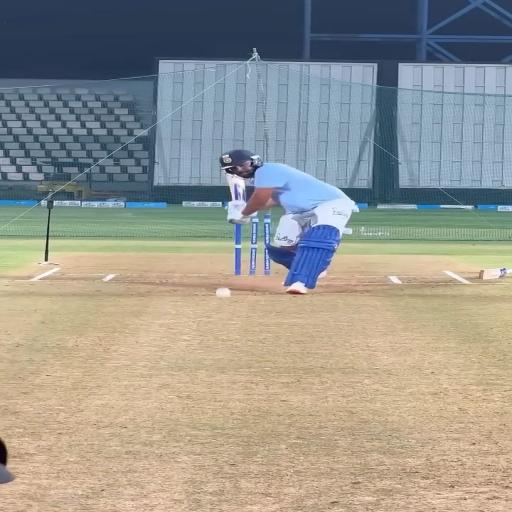Cricket bat: (227, 174, 245, 202)
